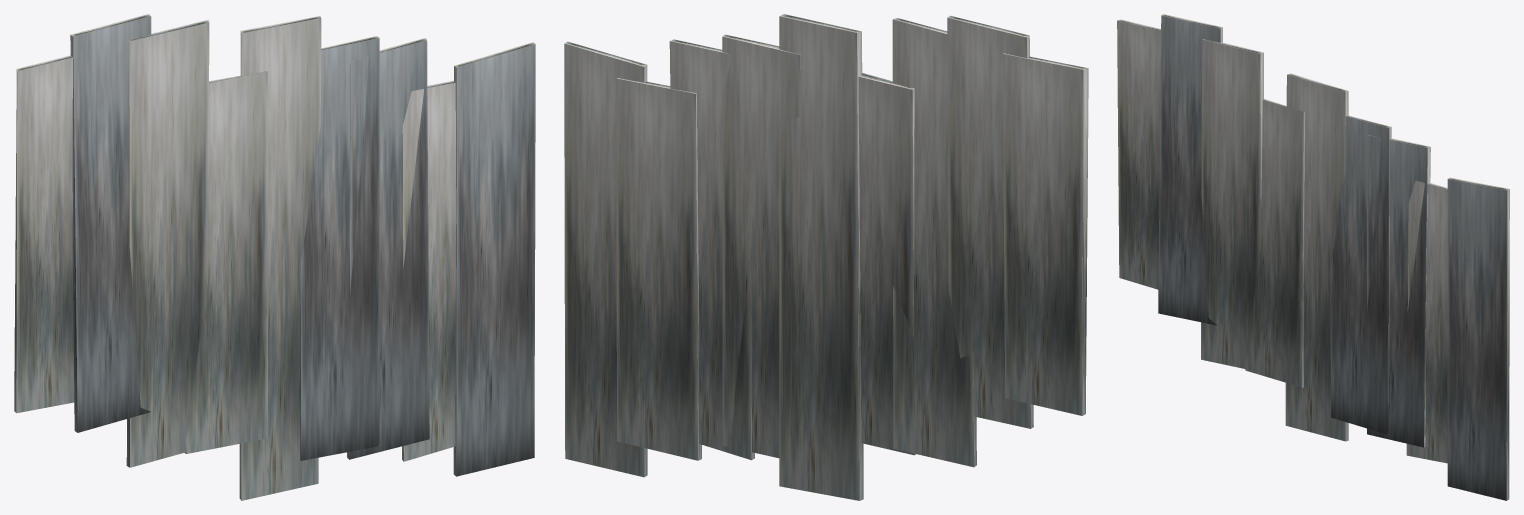
File: solid_metal_10x5_slanted.DAE
The picture shows the model from 3 angles, left to right: view 1: azimuth 30°, elevation 25°; view 2: azimuth 150°, elevation 25°; view 3: azimuth 330°, elevation 25°; orthographic projection. The views are drawn at different scales.
Parts seen in each view (by area): view 1: Object05; view 2: Object05; view 3: Object05.
Boxes of the visible parts, x1=… form: Object05: x1=14, y1=14, x2=535, y2=500; Object05: x1=564, y1=14, x2=1088, y2=500; Object05: x1=1117, y1=14, x2=1509, y2=500.
Bounding box in the file's own units: 12.35 × 12.13 × 0.3262.
